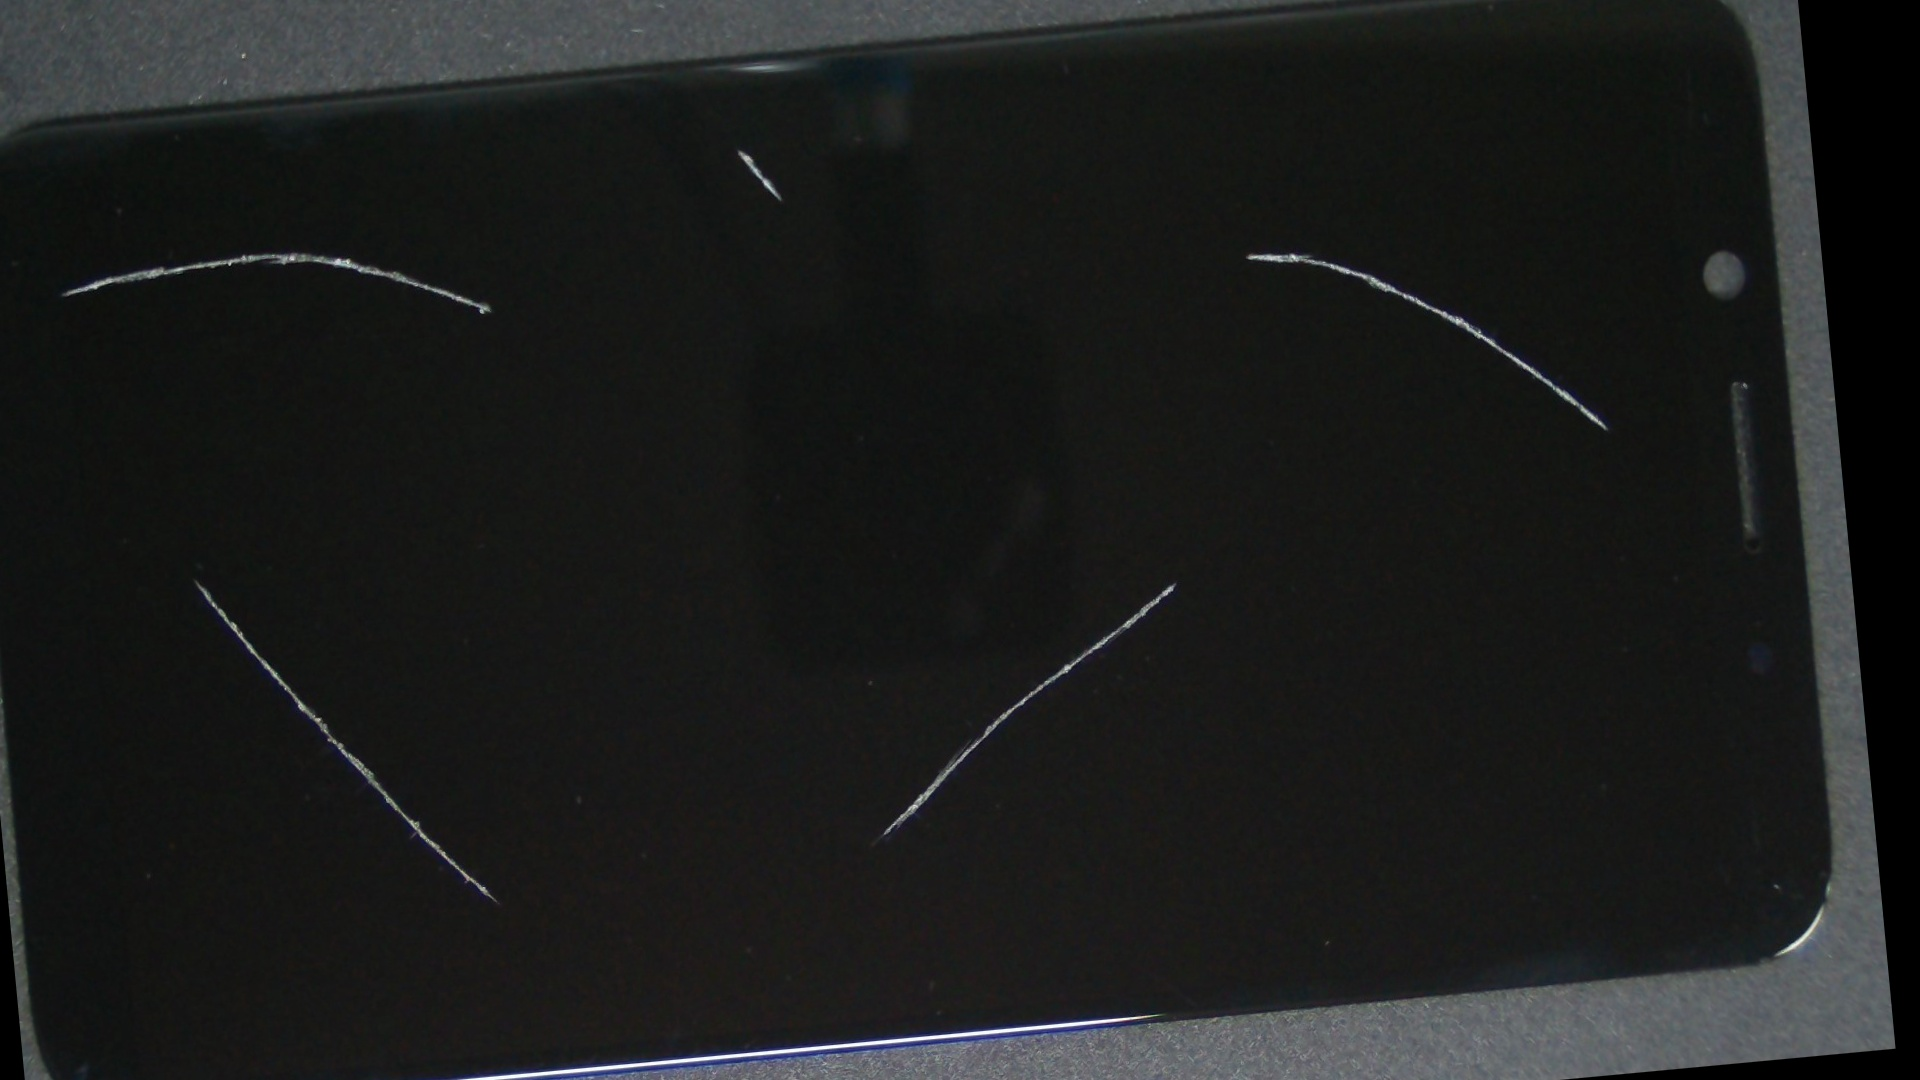oil: (550, 181, 1800, 984), (588, 13, 1834, 500), (331, 3, 1145, 301), (58, 270, 330, 889), (84, 100, 401, 409)
